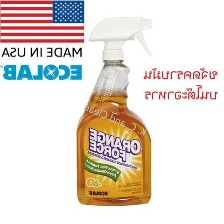cleaning_solution: (73, 14, 160, 207)
